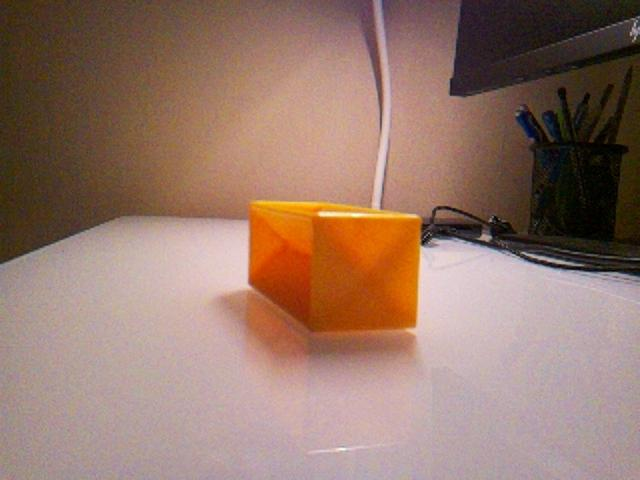yellow: (247, 198, 423, 334)
